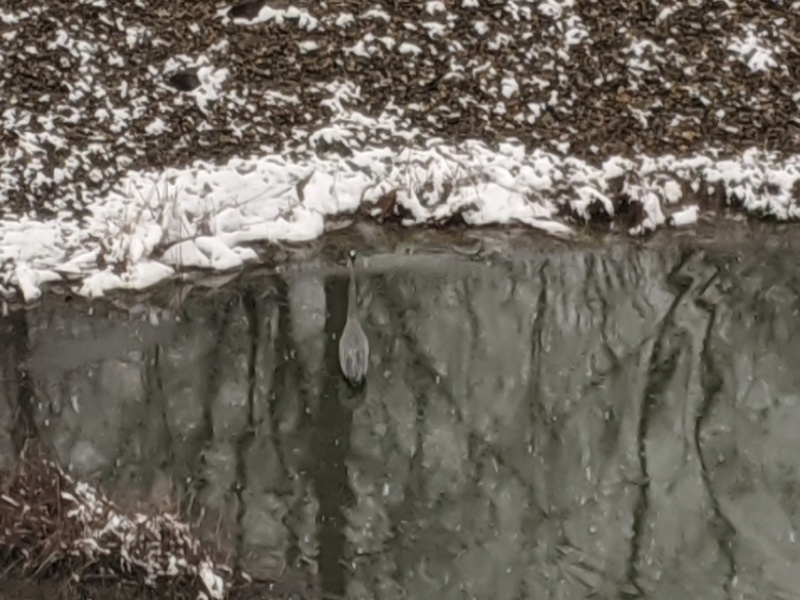heron: (333, 251, 373, 387)
